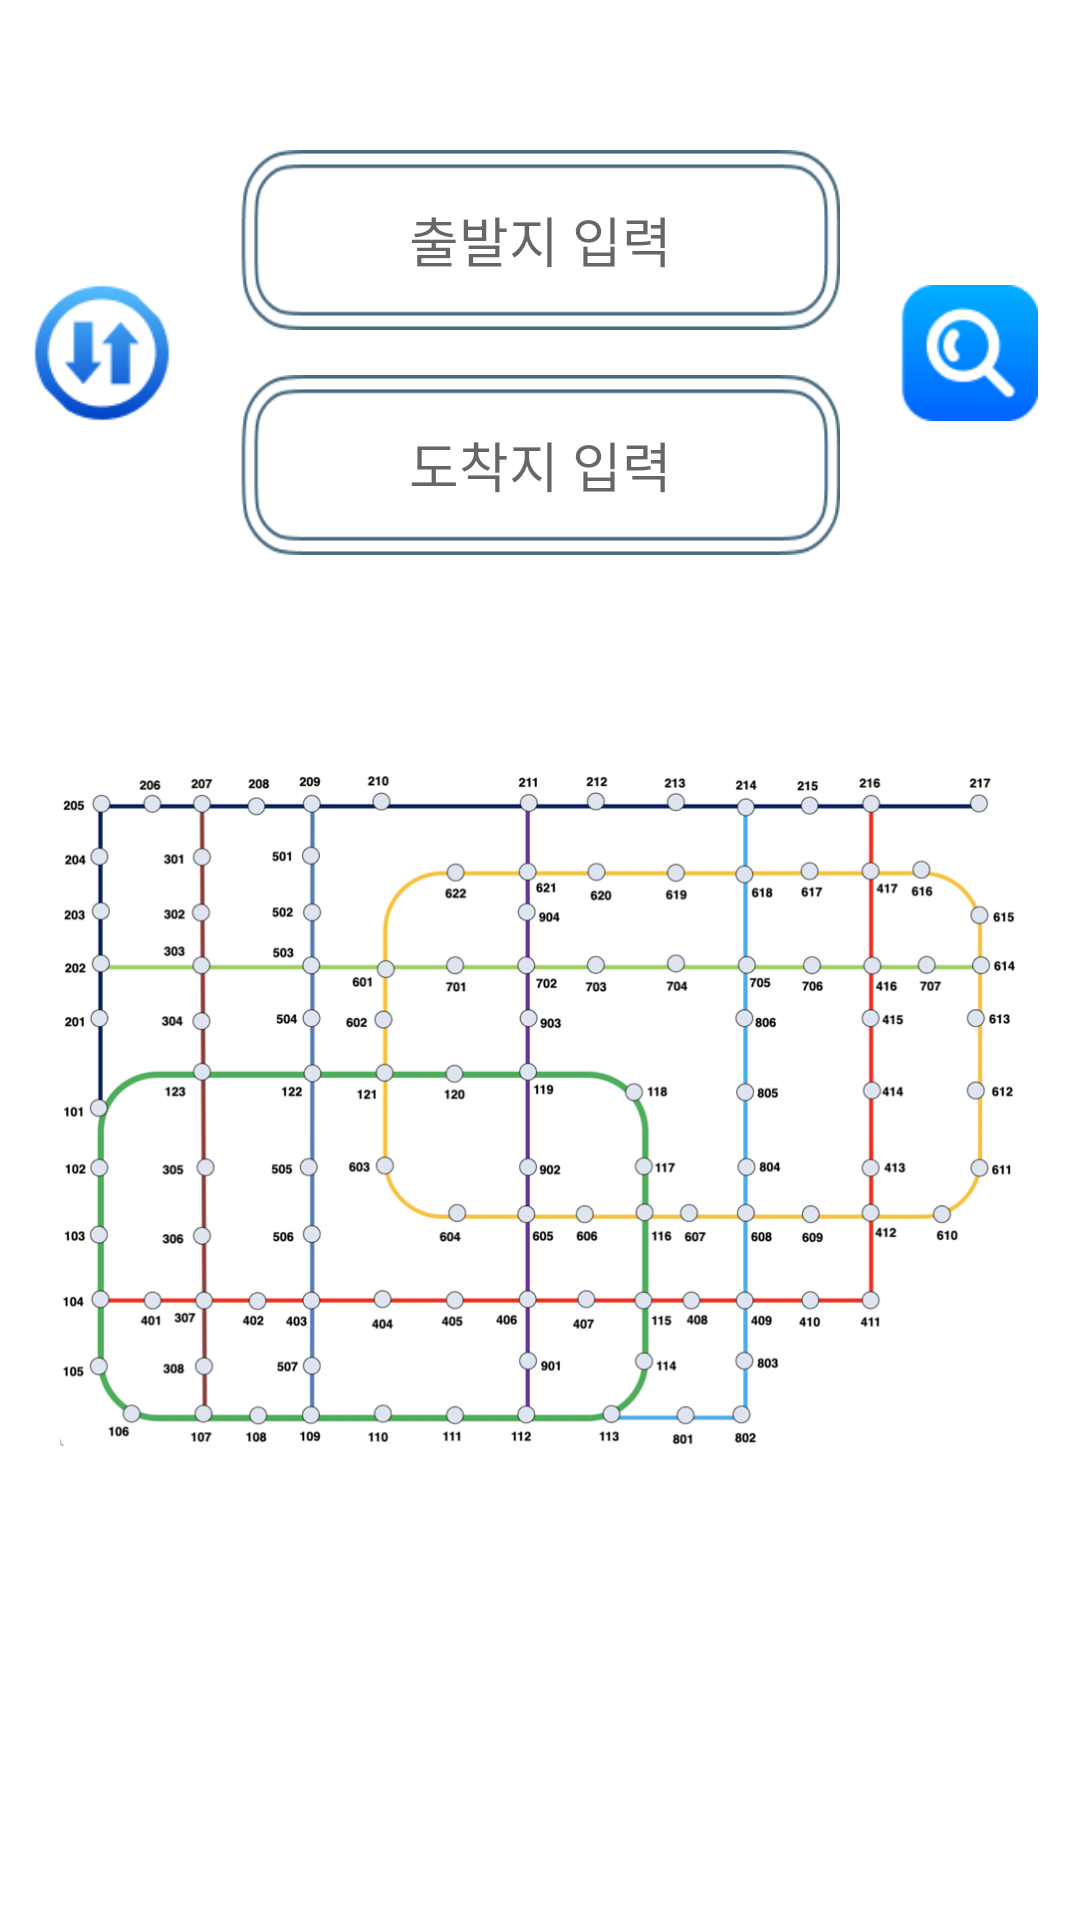

Named icons in this screenshot (1080px×1920px) and their bounding boxes, (x1, y1, x2, y2):
Change Start/Destination: (34, 285, 169, 421)
Search Paths: (901, 285, 1038, 421)
